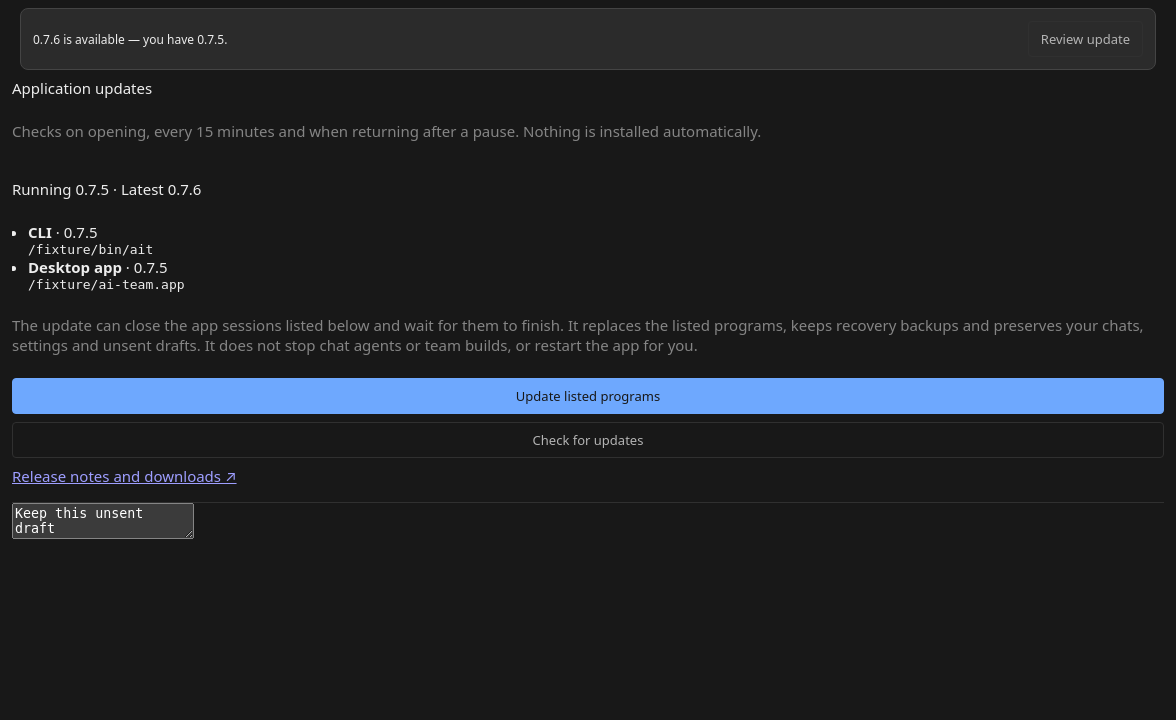
Test: retains an installation error across the reconciliation read
The image size is (1176, 720).
Expected: the text "Running 0.7.5 · Latest 0.7.6" is shown, [12,179,202,199]
Click the button "Update listed programs" at (588,396), box [12,378,1164,414]
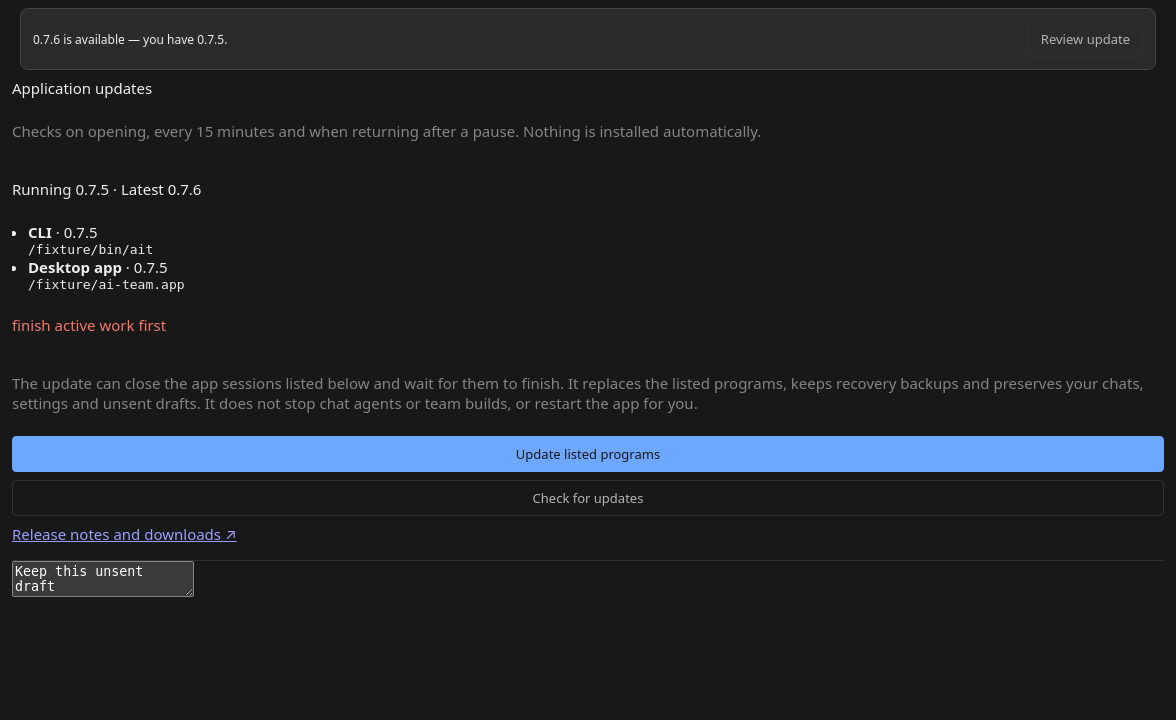
Now the message reads "finish active work first", box [12,315,166,335]
